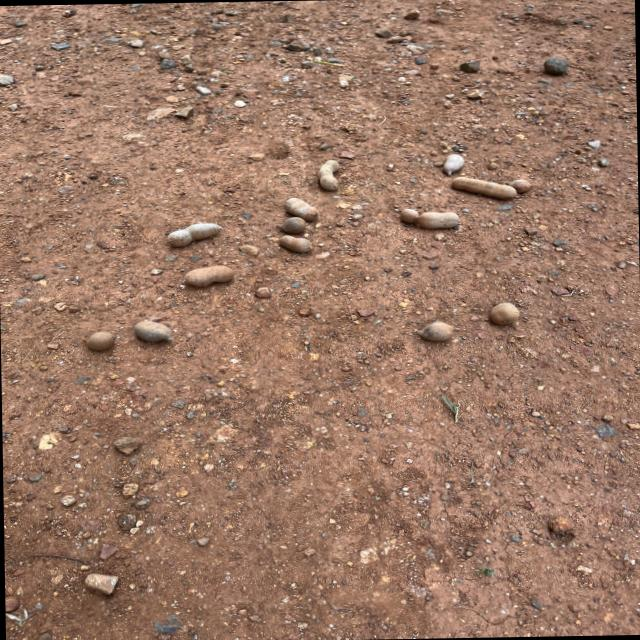tamarind: (452, 174, 516, 202), (399, 206, 463, 232), (165, 220, 222, 248), (182, 264, 234, 286), (134, 320, 174, 342), (282, 196, 318, 220), (317, 158, 342, 190), (486, 302, 521, 324), (418, 322, 456, 342), (275, 216, 309, 234), (279, 234, 312, 252), (86, 331, 115, 351), (443, 153, 465, 175), (508, 178, 532, 194)
